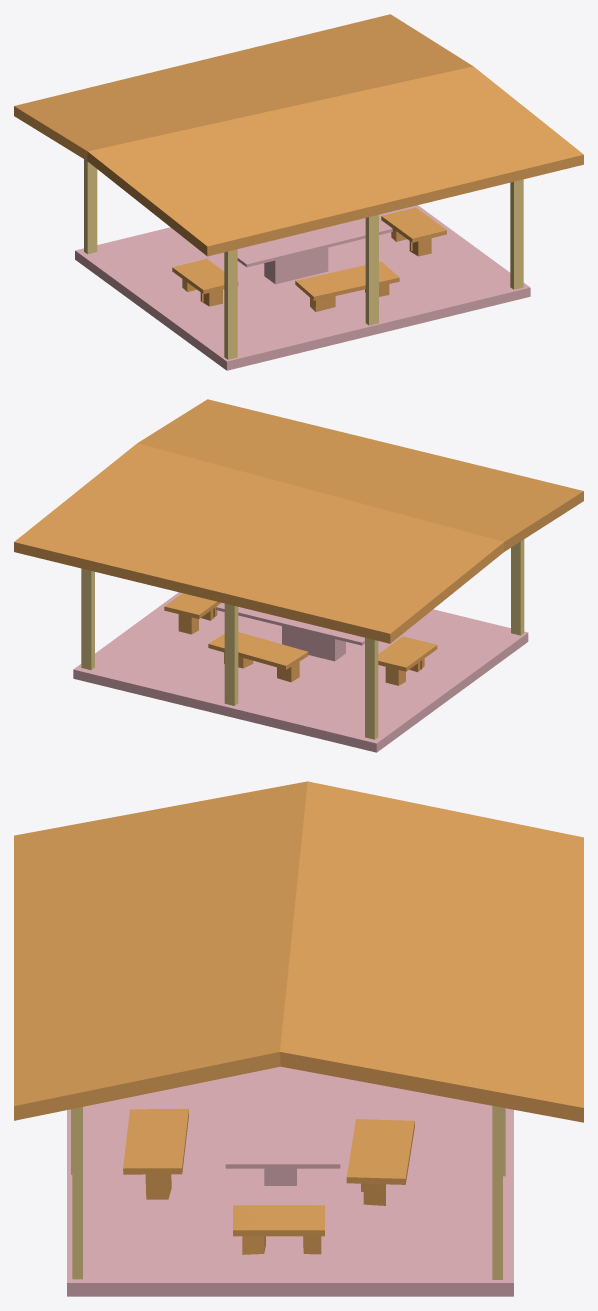
Rendered from Agri_ShedFIN.glb.
3 views of the same model, one above another, from view 1: azimuth 30°, elevation 25°; view 2: azimuth 150°, elevation 25°; view 3: azimuth 270°, elevation 25° (orthographic). The views are drawn at different scales.
Visible parts, largest first — view 1: Cube.007, Cube, Cube.009, Cube.013, Cube.010, Cube.011, Cube.008, Cube.003, Cube.001, Cube.002, Cube.006; view 2: Cube.007, Cube, Cube.012, Cube.011, Cube.004, Cube.006, Cube.005, Cube.010, Cube.008, Cube.001, Cube.009; view 3: Cube.007, Cube, Cube.009, Cube.013, Cube.012, Cube.010, Cube.005, Cube.002.
Part boxes in pixels (x1,y1,x2,y2): Cube.007: (14,14,583,256); Cube: (75,205,530,370); Cube.009: (237,218,392,267); Cube.013: (295,261,399,311); Cube.010: (381,207,446,256); Cube.011: (172,259,238,306); Cube.008: (264,247,328,284); Cube.003: (365,214,378,325); Cube.001: (224,249,237,359); Cube.002: (510,179,523,289); Cube.006: (84,159,97,254); Cube.007: (14,399,583,643); Cube: (73,592,528,752); Cube.012: (208,632,308,682); Cube.011: (378,636,437,685); Cube.004: (224,603,238,705); Cube.006: (365,637,378,739); Cube.005: (81,568,94,669); Cube.010: (164,593,220,634); Cube.008: (282,626,345,661); Cube.001: (511,539,524,635); Cube.009: (216,603,364,645); Cube.007: (14,781,583,1122); Cube: (67,1077,513,1296); Cube.009: (225,1066,340,1168); Cube.013: (123,1109,188,1199); Cube.012: (346,1119,414,1205); Cube.010: (233,1205,324,1254); Cube.005: (492,1106,502,1279); Cube.002: (72,1107,82,1279).
Bounding box in the file's own units: 10.77 × 4.5 × 9.1.
